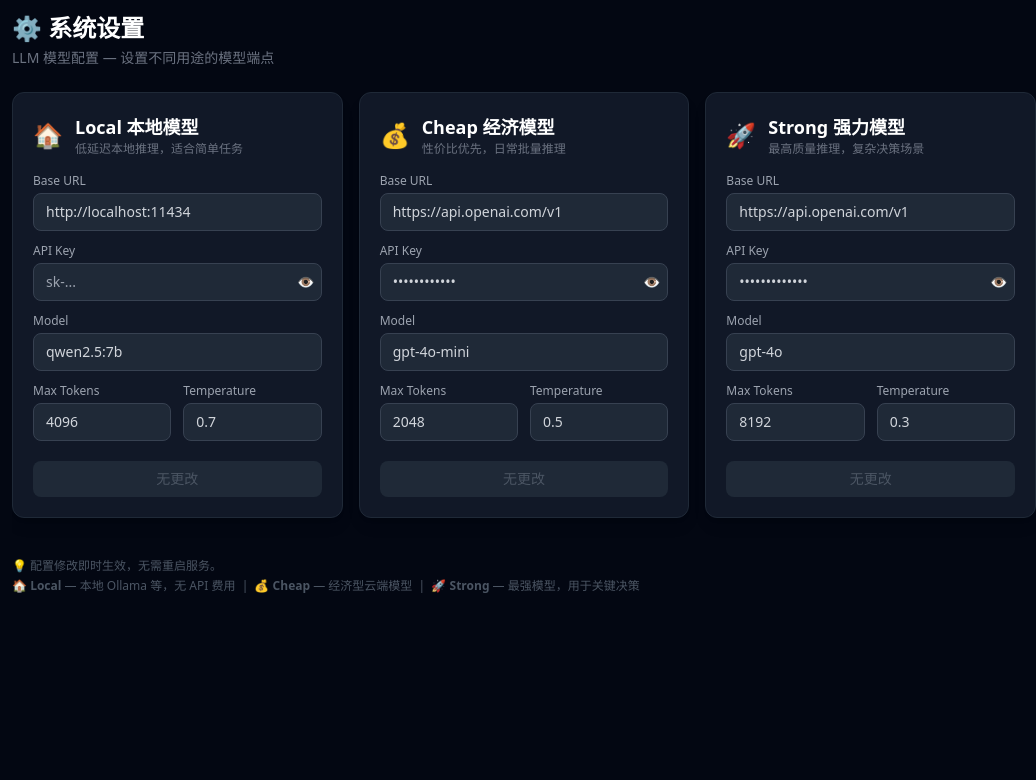
Scenario: Settings › 保存失败时应显示失败 toast
Expected: the heading "Local 本地模型" is shown, [75,115,199,139]
Type "bad-model" into the 4th field with placeholder "qwen2.5:7b".
click(177, 352); type("bad-model")  # box [33,333,322,371]
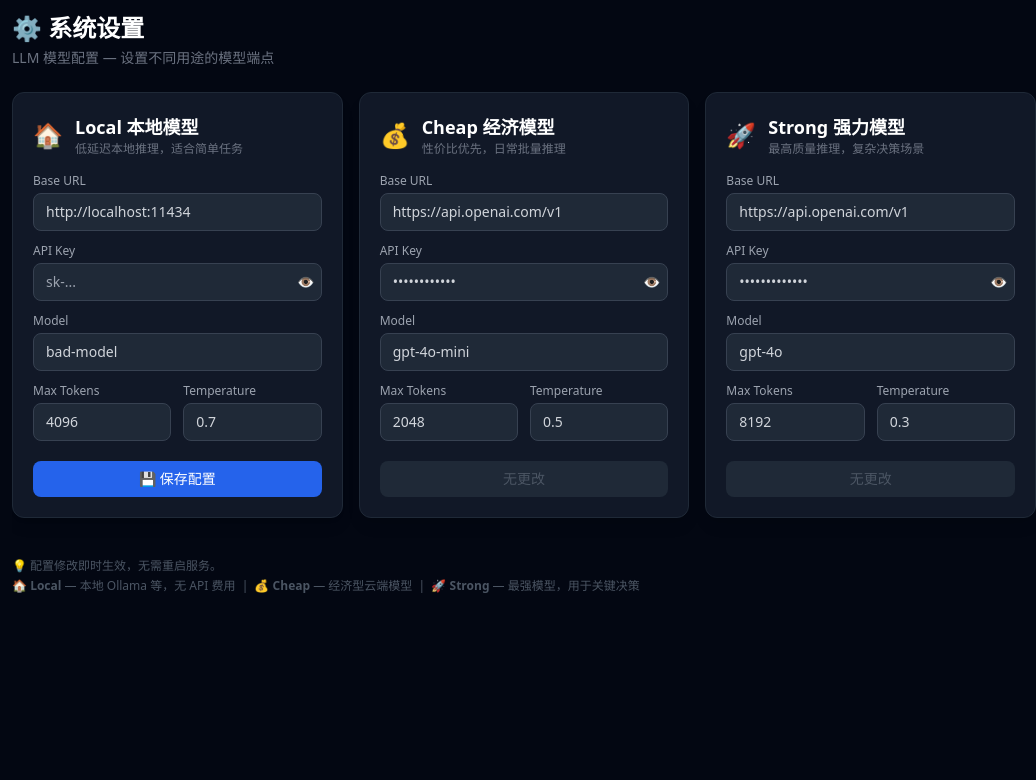
Click the button "💾 保存配置".
click(177, 479)  # box [33,461,322,497]
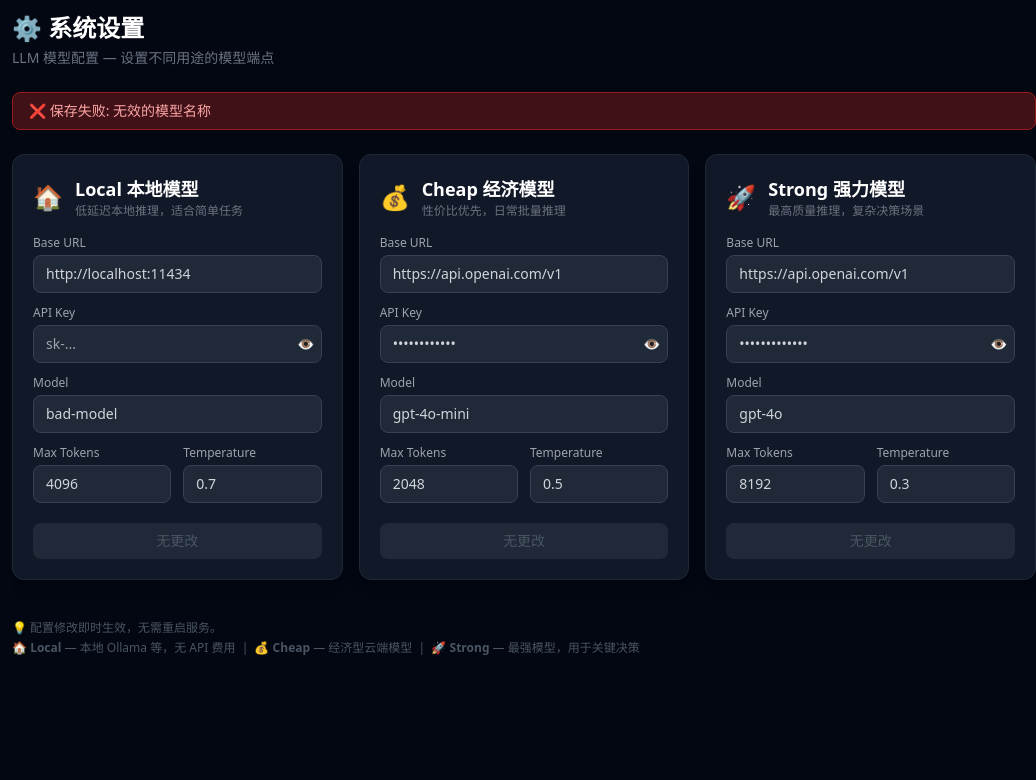
Now the text "❌ 保存失败: 无效的模型名称" is shown, box [12,92,1035,130]
